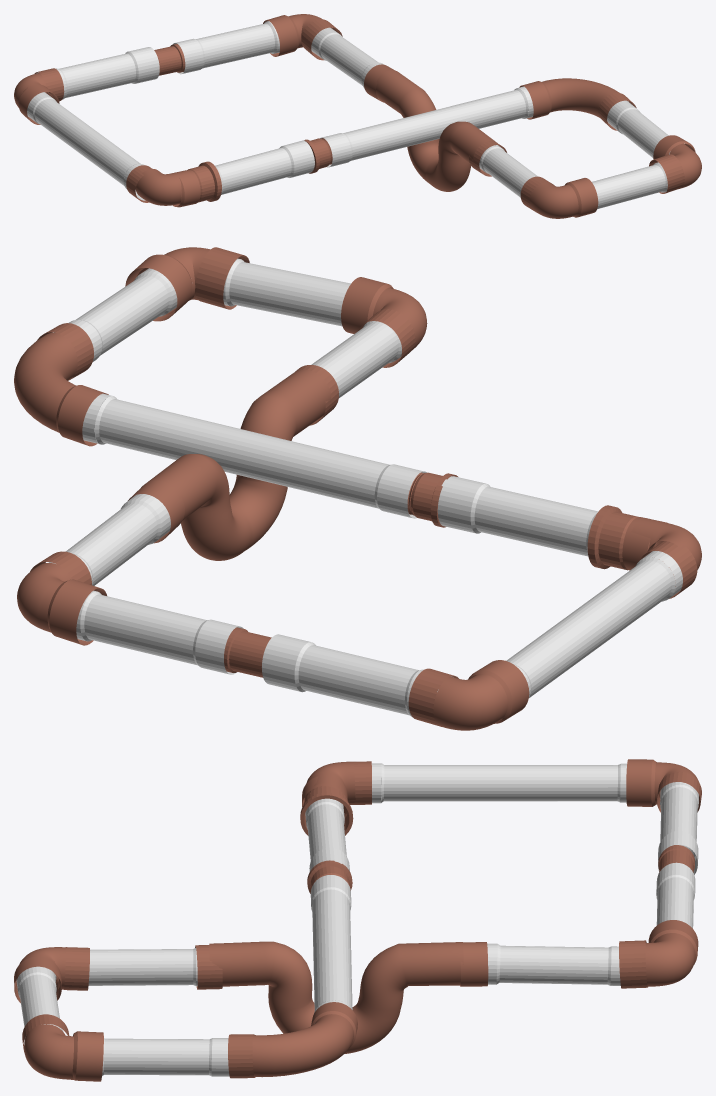
The model's file is canos.glb.
3 views of the same model, one above another, from view 1: azimuth 30°, elevation 25°; view 2: azimuth 150°, elevation 25°; view 3: azimuth 270°, elevation 25° (orthographic). The views are drawn at different scales.
Visible parts, largest first — view 1: BezierCurve.002, Circle.001, Circle.011, Circle.010, Circle.009, Circle.006, curva soldável.004, BezierCurve.001, curva soldável.006, Circle.007, BezierCurve.003, Circle.005 (+7 smaller); view 2: Circle.001, BezierCurve.002, Circle.011, Circle.006, Circle.010, Circle.009, curva soldável.004, curva soldável.007, Circle.007, BezierCurve.005, Circle.005, Circle.008 (+7 smaller); view 3: BezierCurve.002, Circle.011, curva soldável.004, Circle.005, Circle.001, Circle.008, BezierCurve.003, BezierCurve.005, Circle, Circle.010, curva soldável.007, Circle.006 (+7 smaller).
Part boxes in pixels (box(x1,y1,x2,y2)): BezierCurve.002: box(364, 64, 506, 191); Circle.001: box(320, 86, 533, 167); Circle.011: box(27, 92, 145, 200); Circle.010: box(36, 47, 159, 99); Circle.009: box(172, 21, 279, 74); Circle.006: box(215, 140, 314, 194); curva soldável.004: box(519, 78, 636, 130); BezierCurve.001: box(520, 176, 598, 218); curva soldável.006: box(126, 165, 200, 207); Circle.007: box(592, 162, 667, 208); BezierCurve.003: box(649, 135, 701, 193); Circle.005: box(311, 27, 383, 88); Circle.001: box(82, 393, 426, 518); BezierCurve.002: box(128, 365, 338, 560); Circle.011: box(506, 551, 682, 697); Circle.006: box(437, 476, 598, 556); Circle.010: box(262, 634, 453, 717); Circle.009: box(76, 590, 243, 674); curva soldável.004: box(14, 323, 108, 446); curva soldável.007: box(408, 660, 529, 730); Circle.007: box(223, 258, 350, 326); BezierCurve.005: box(17, 551, 106, 645); Circle.005: box(49, 494, 170, 585); Circle.008: box(54, 268, 177, 361); BezierCurve.002: box(195, 941, 488, 1053); Circle.011: box(371, 763, 626, 803); curva soldável.004: box(228, 1002, 357, 1078); Circle.005: box(487, 943, 620, 985); Circle.001: box(310, 875, 352, 1013); Circle.008: box(102, 1038, 229, 1076); BezierCurve.003: box(22, 1014, 103, 1081); BezierCurve.005: box(619, 920, 698, 988); Circle: box(54, 948, 197, 986); Circle.010: box(658, 782, 698, 874); curva soldável.007: box(626, 759, 701, 812); Circle.006: box(305, 798, 349, 871).
Size of the model in its own units: 11.26 by 1.95 by 11.18.
